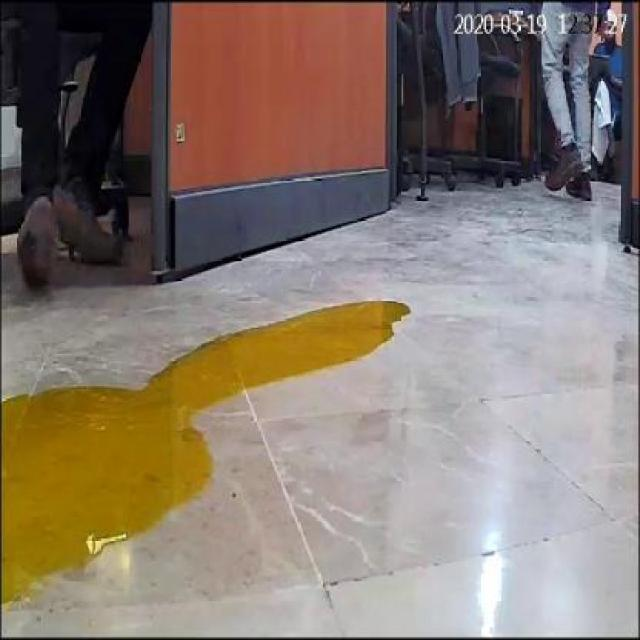spill: (0, 303, 409, 611)
